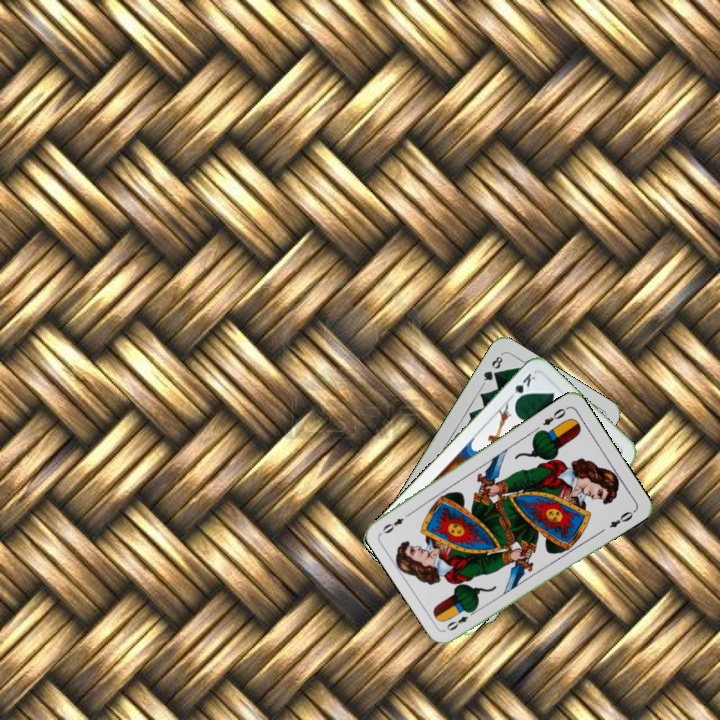EO: (442, 606, 479, 633), (539, 403, 571, 428)
G8: (479, 350, 505, 387)
GK: (505, 369, 538, 405)
